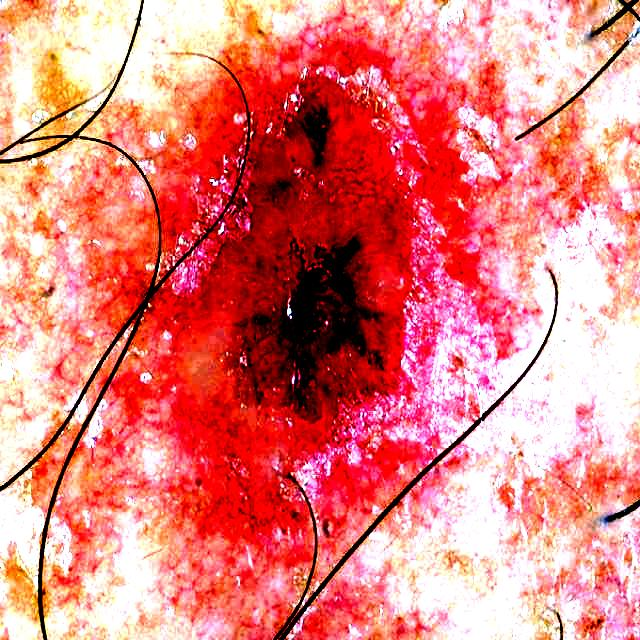BCC: (178, 75, 414, 477)
